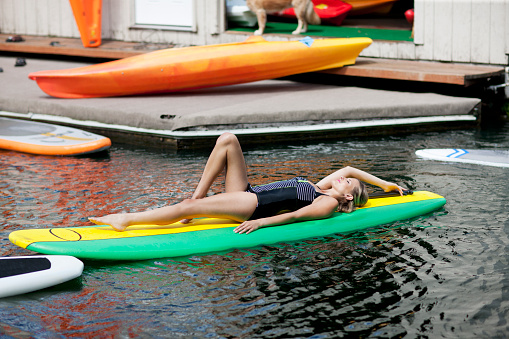deitado: (104, 149, 429, 218)
